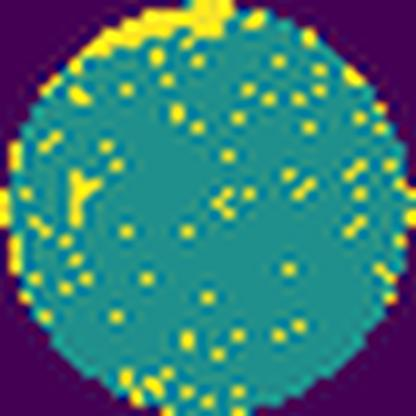Edge-Loc: (71, 0, 233, 71)
